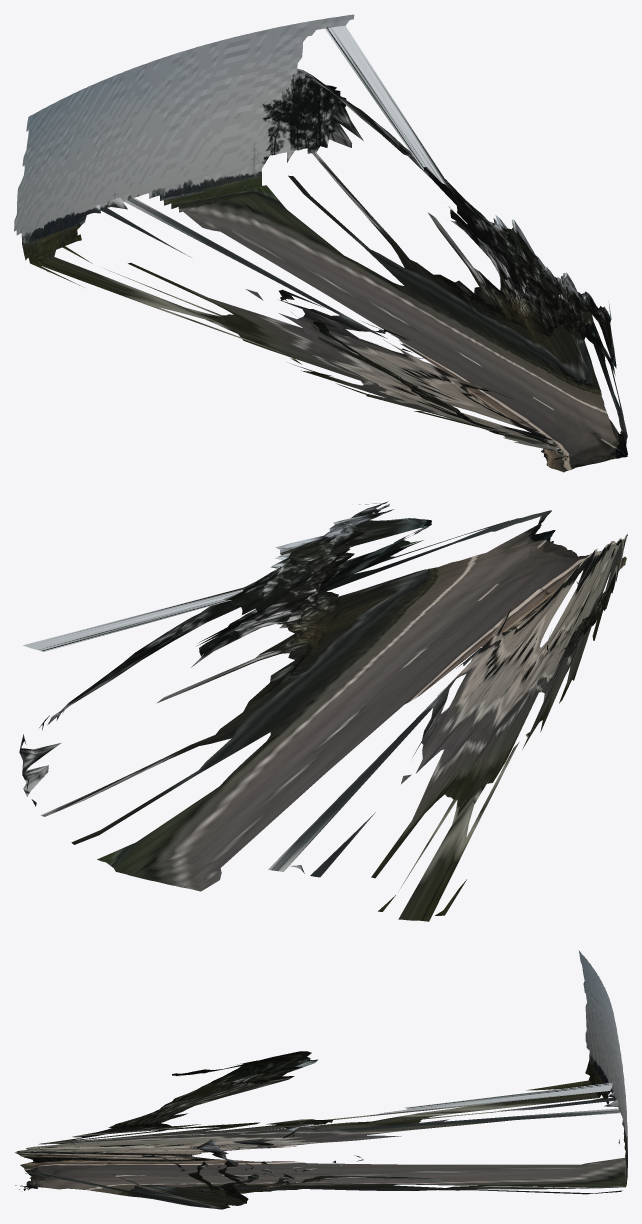
The picture shows the model from 3 angles, top to bottom: view 1: azimuth 30°, elevation 25°; view 2: azimuth 150°, elevation 25°; view 3: azimuth 270°, elevation 25°; orthographic projection. The views are drawn at different scales.
Visible parts, largest first — view 1: defaultobject; view 2: defaultobject; view 3: defaultobject.
Boxes of the visible parts, bbox=[...] form: defaultobject: bbox=[14, 14, 627, 472]; defaultobject: bbox=[19, 501, 627, 921]; defaultobject: bbox=[15, 950, 627, 1209].
Size of the model in its own units: 25.38 by 11.73 by 45.16.
1 material, 1 textured.
